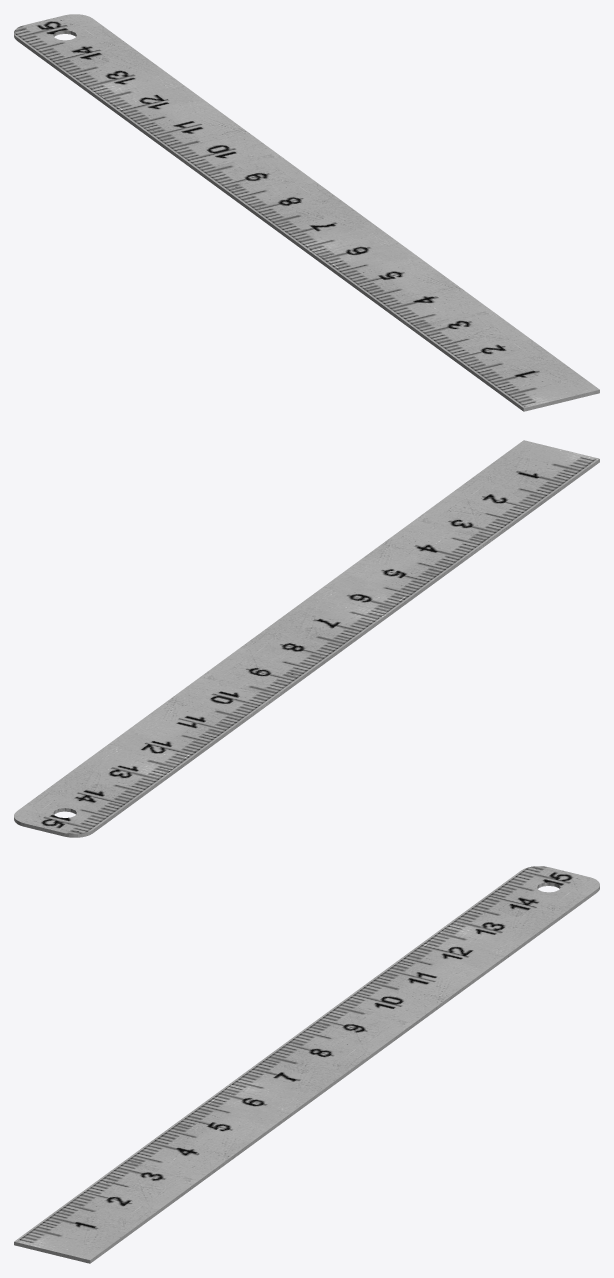
Rendered from Ruler02_3.FBX.
The picture shows the model from 3 angles, top to bottom: view 1: azimuth 30°, elevation 25°; view 2: azimuth 150°, elevation 25°; view 3: azimuth 330°, elevation 25°; orthographic projection.
Parts seen in each view (by area): view 1: Ruler02_3; view 2: Ruler02_3; view 3: Ruler02_3.
Part boxes in pixels (x1=…): Ruler02_3: x1=14, y1=14, x2=599, y2=411; Ruler02_3: x1=14, y1=440, x2=599, y2=837; Ruler02_3: x1=14, y1=866, x2=599, y2=1263.
Bounding box in the file's own units: 1.37 × 0.0604 × 16.08.
